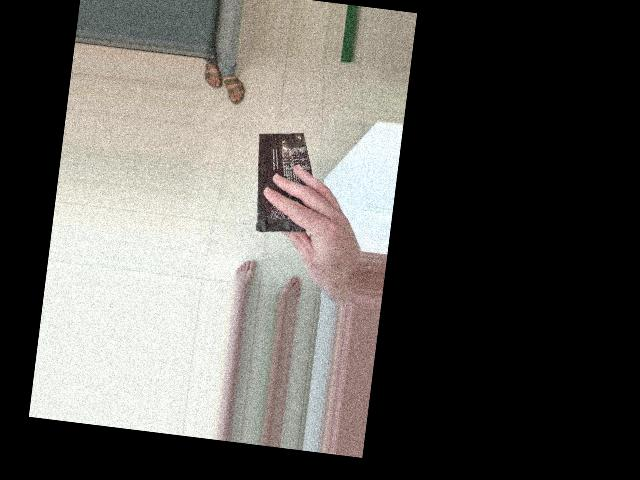chocolate: (175, 104, 303, 197)
